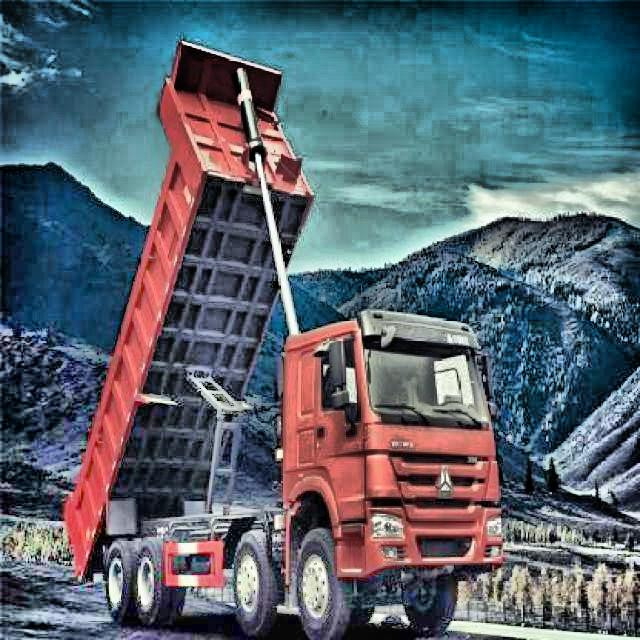dump_truck: (66, 24, 506, 638)
